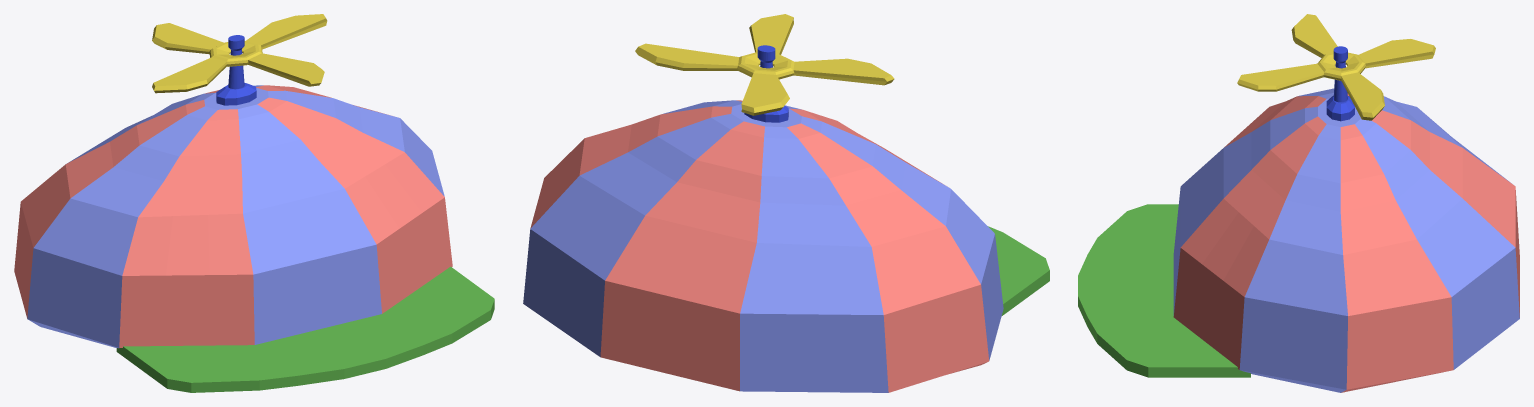
The model's file is FanHat.fbx.
The picture shows the model from 3 angles, left to right: view 1: azimuth 30°, elevation 25°; view 2: azimuth 150°, elevation 25°; view 3: azimuth 270°, elevation 25°; orthographic projection. The views are drawn at different scales.
Parts seen in each view (by area): view 1: Sphere.007, Sphere.004, Sphere.012, Sphere.001, 실린더; view 2: Sphere.004, Sphere.007, Sphere.001, Sphere.012, 실린더; view 3: Sphere.004, Sphere.007, Sphere.012, Sphere.001, 실린더.
Part boxes in pixels (x1,y1,x2,y2): Sphere.007: [14, 85, 452, 347]; Sphere.004: [27, 85, 444, 348]; Sphere.012: [116, 266, 494, 392]; Sphere.001: [152, 14, 327, 93]; 실린더: [216, 35, 256, 105]; Sphere.004: [523, 100, 1003, 392]; Sphere.007: [530, 100, 989, 392]; Sphere.001: [635, 14, 894, 115]; Sphere.012: [988, 226, 1049, 315]; 실린더: [744, 45, 788, 122]; Sphere.004: [1173, 88, 1519, 392]; Sphere.007: [1173, 93, 1519, 392]; Sphere.012: [1078, 204, 1250, 377]; Sphere.001: [1237, 14, 1435, 120]; 실린더: [1326, 46, 1354, 121].
Size of the model in its own units: 508 by 284 by 463.
